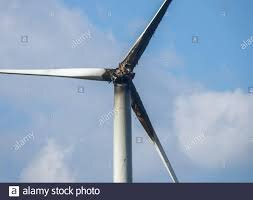faulty: (95, 49, 150, 123)
